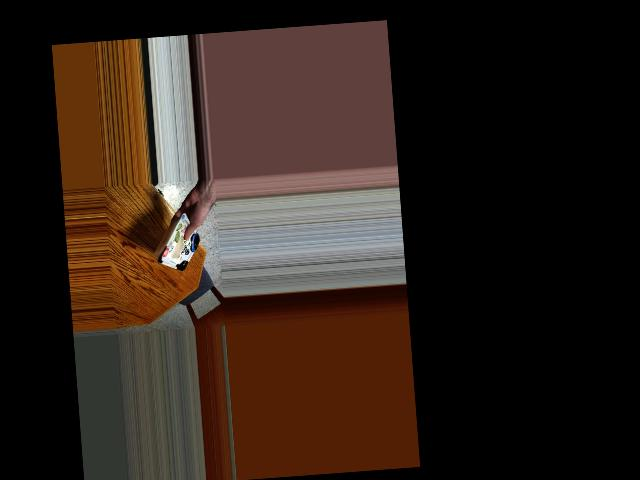cheese: (143, 216, 203, 277)
